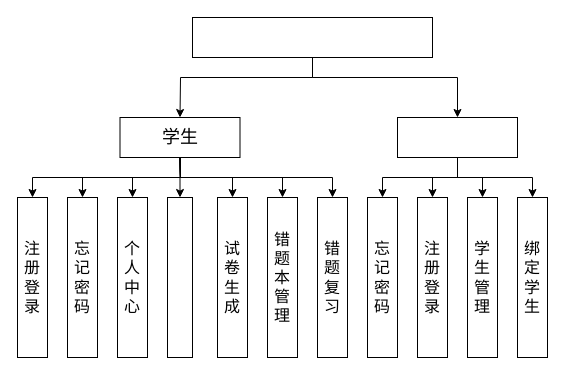
This 565x375 diagram has some shape labels left out. Here are the shapes that lost their labels. From the top down, the centre of each, then its label:
point 312,37: 错题速记app
point 457,137: 家长
point 179,277: 拍题录入
